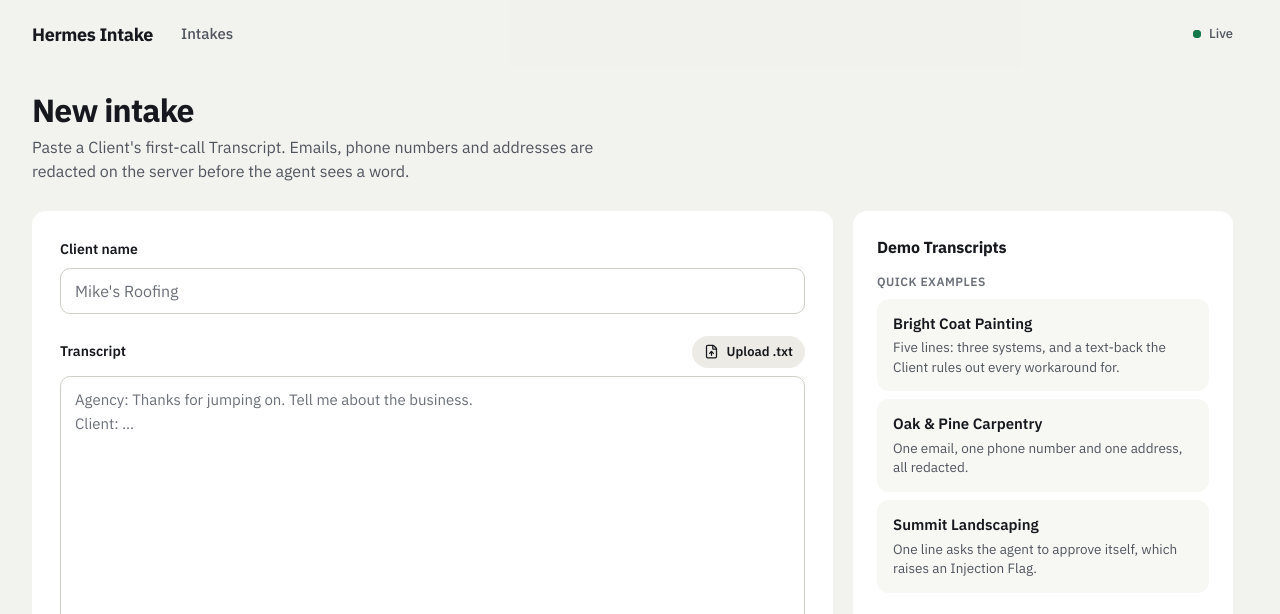
Test case: New intake › asks for the key again when the API rejects it
In the field labelled "Client name": (432, 291) [60,268,805,314], type "Acme"
(page scrolled)
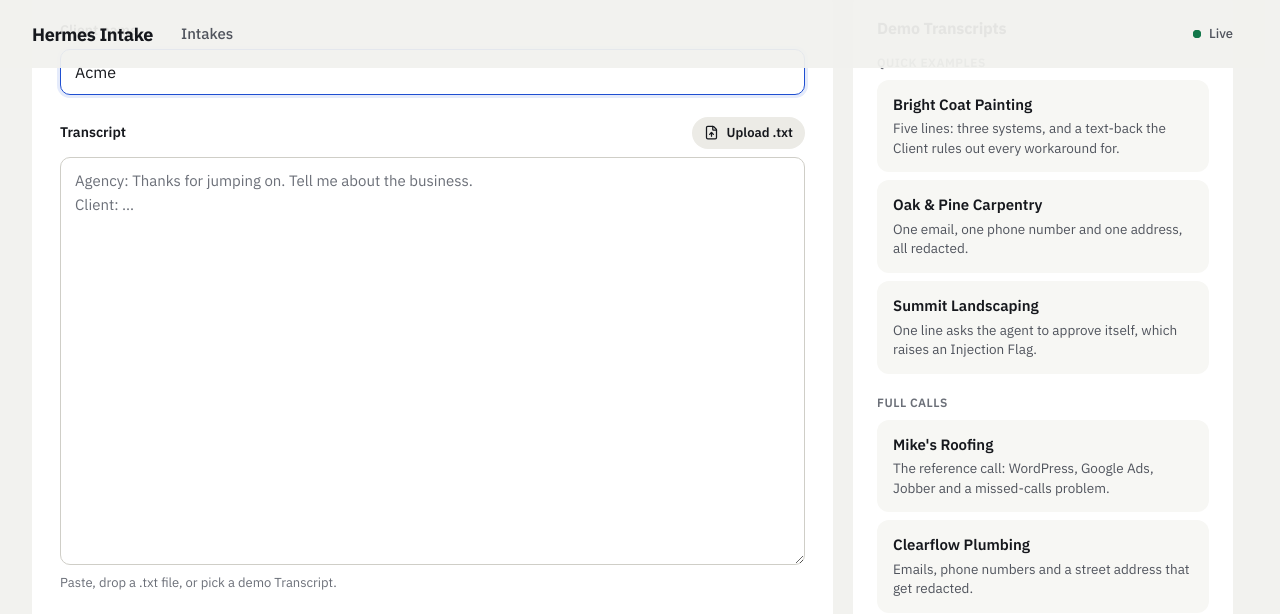
In the text box labelled "Transcript": (432, 361) [60,157,805,565], type "We use Shopify."
(page scrolled)
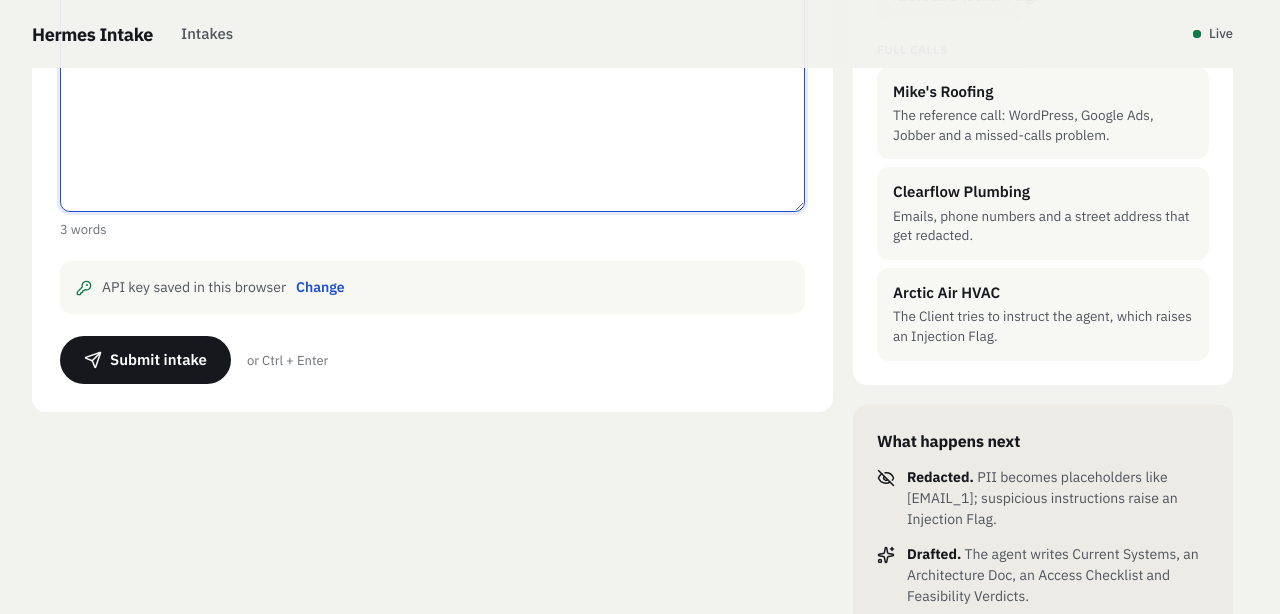
Click the button "Submit intake": (146, 360) [60,336,231,384]
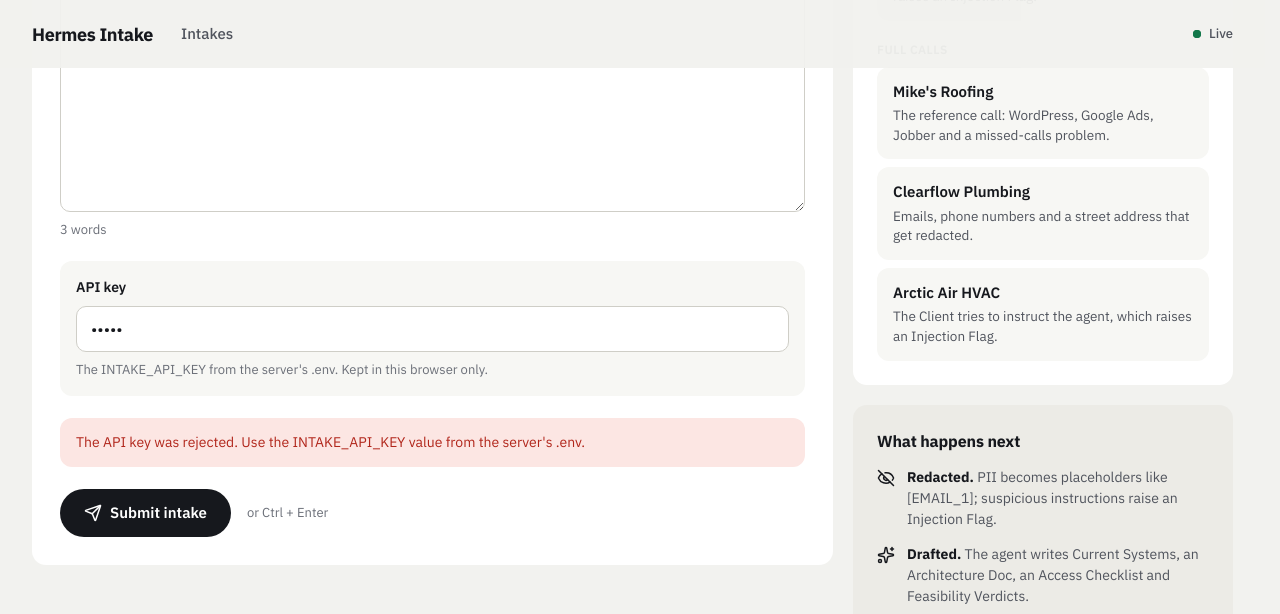
Expected: the message shows "API key was rejected", [76,433,585,451]
Expected: the password field labelled "API key" holds "wrong", [76,306,789,352]
